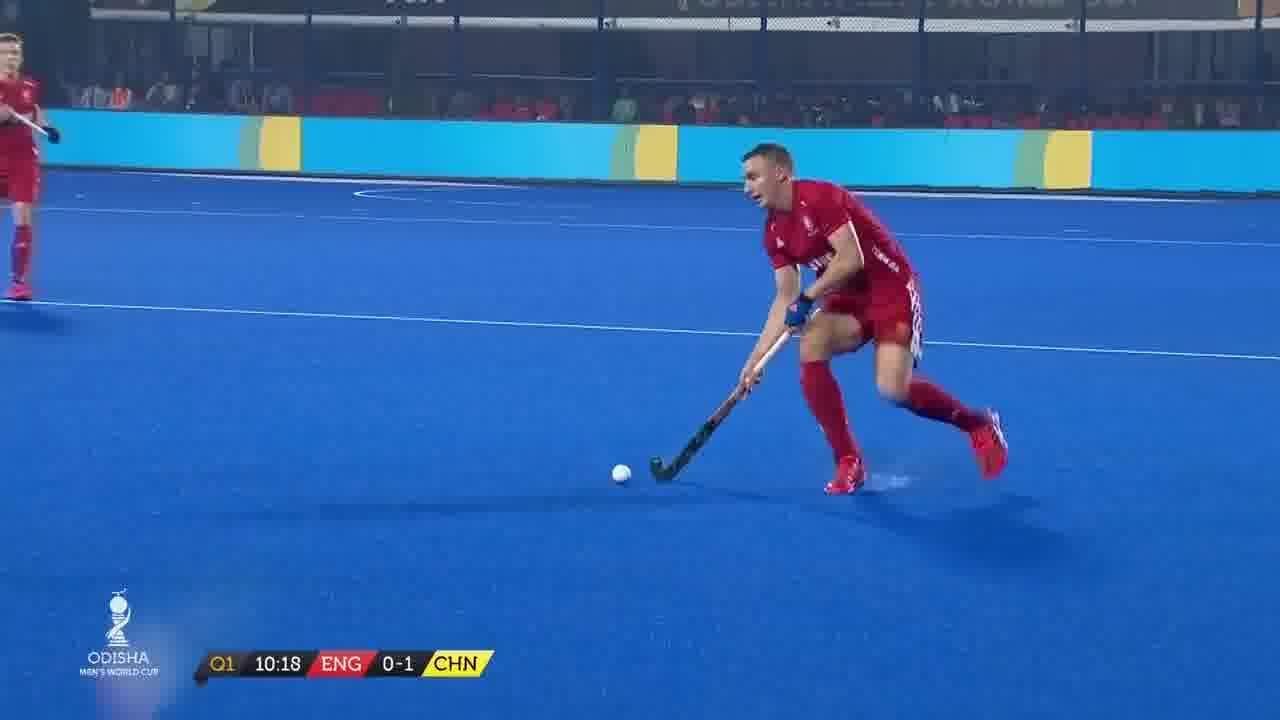ball: (606, 454, 643, 497)
